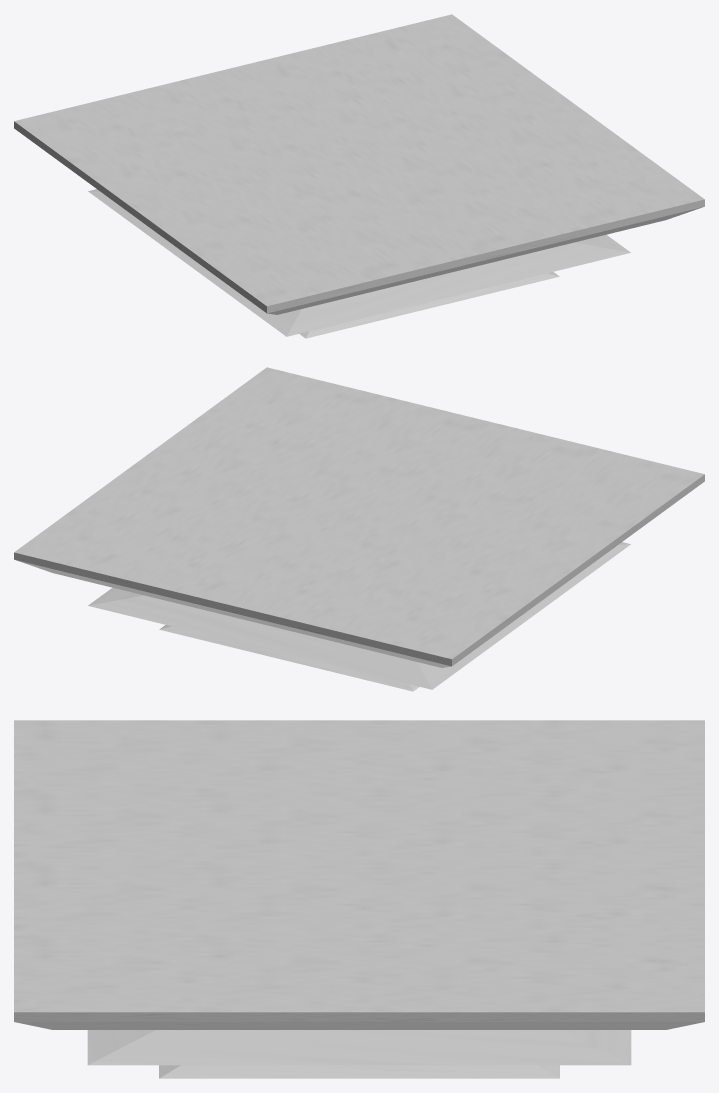
The model's file is Vent.fbx.
3 renders of one model, top to bottom at view 1: azimuth 30°, elevation 25°; view 2: azimuth 150°, elevation 25°; view 3: azimuth 270°, elevation 25°, orthographic. The views are drawn at different scales.
Parts seen in each view (by area): view 1: Cube; view 2: Cube; view 3: Cube.
Part boxes in pixels (box(x1,y1,x2,y2)): Cube: box(14, 14, 704, 338); Cube: box(14, 367, 704, 691); Cube: box(14, 720, 704, 1078).
Size of the model in its own units: 200 by 40.84 by 200.
1 material, 1 textured.
